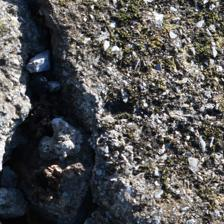Crack: (24, 76, 131, 184), (17, 11, 76, 123)
